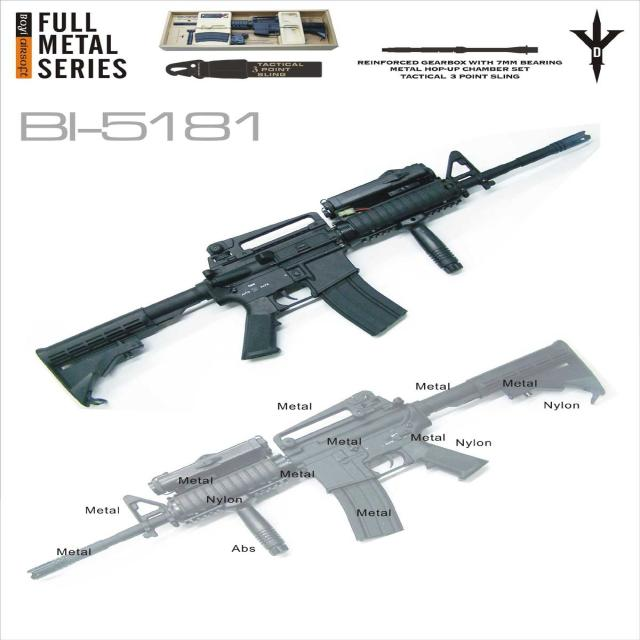heavyweapon: (28, 102, 604, 414), (19, 319, 635, 605)
